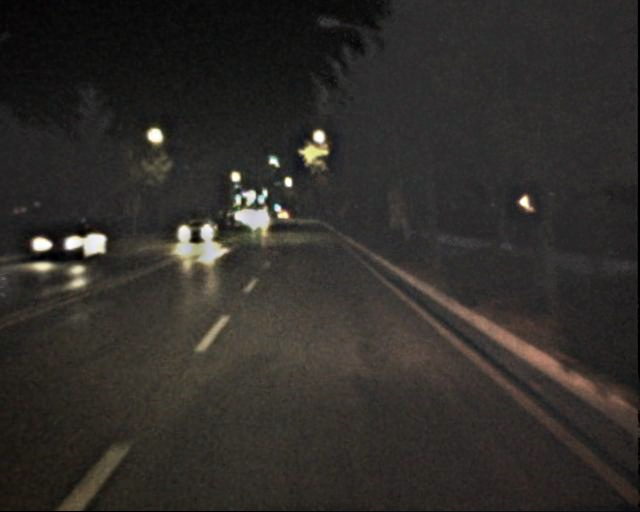person: (498, 204, 523, 270)
